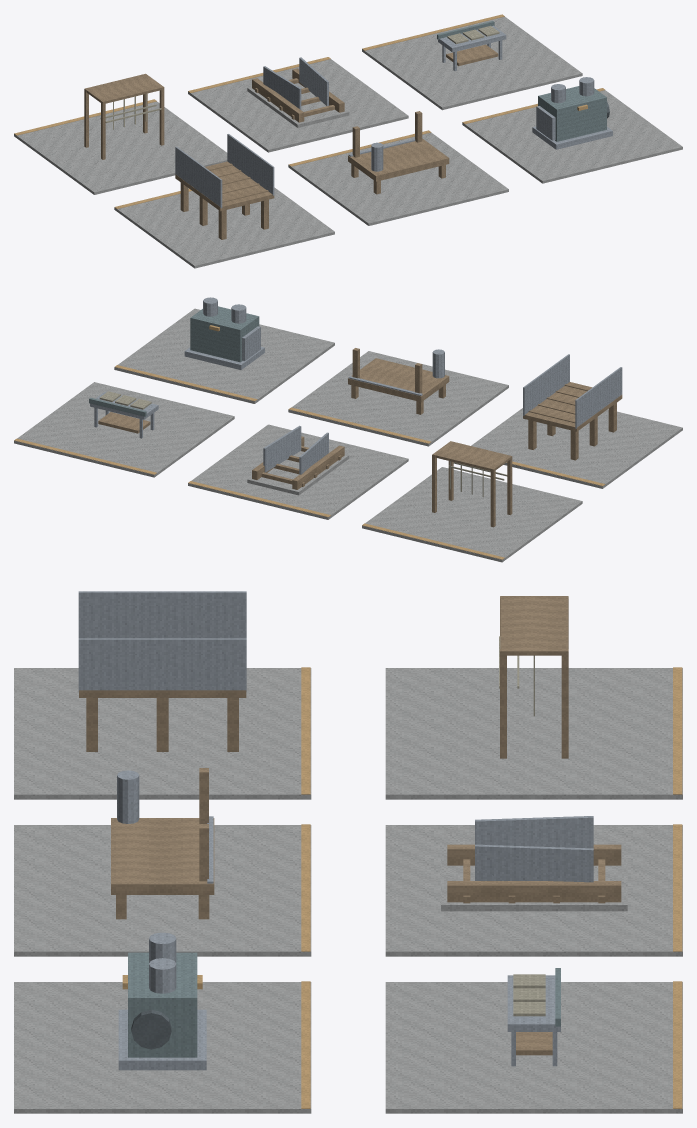
The model's file is level_blockout_kit_wld_06_p02.glb.
3 renders of one model, top to bottom at view 1: azimuth 30°, elevation 25°; view 2: azimuth 150°, elevation 25°; view 3: azimuth 270°, elevation 25°, orthographic. The views are drawn at different scales.
Parts seen in each view (by area): view 1: level_blockout_kit_wld_06_p02; view 2: level_blockout_kit_wld_06_p02; view 3: level_blockout_kit_wld_06_p02.
Part boxes in pixels (bbox=[...]): level_blockout_kit_wld_06_p02: bbox=[14, 14, 682, 268]; level_blockout_kit_wld_06_p02: bbox=[14, 297, 682, 562]; level_blockout_kit_wld_06_p02: bbox=[14, 591, 682, 1113].
Bounding box in the file's own units: 19.65 × 2.5 × 12.6.
Materials: 7 (7 with a texture image).
